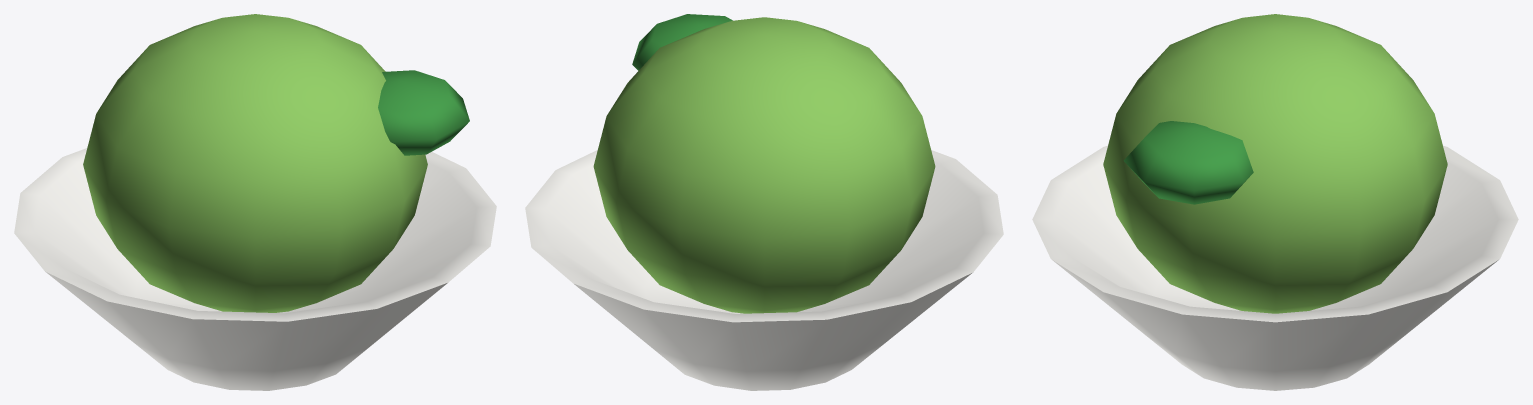
Rendered from melon_bowl.glb.
The picture shows the model from 3 angles, left to right: view 1: azimuth 30°, elevation 25°; view 2: azimuth 150°, elevation 25°; view 3: azimuth 270°, elevation 25°; orthographic projection.
Visible parts, largest first — view 1: root; view 2: root; view 3: root.
Boxes of the visible parts, x1,y1,x2,y2 form: root: (14,14,496,390); root: (525,14,1003,390); root: (1032,14,1518,390).
Size of the model in its own units: 0.48 by 0.3445 by 0.48.
